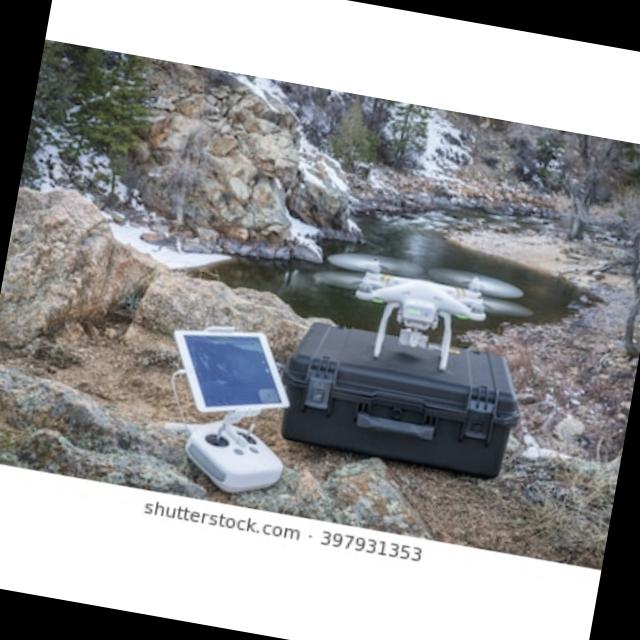Drones: (320, 235, 522, 374)
